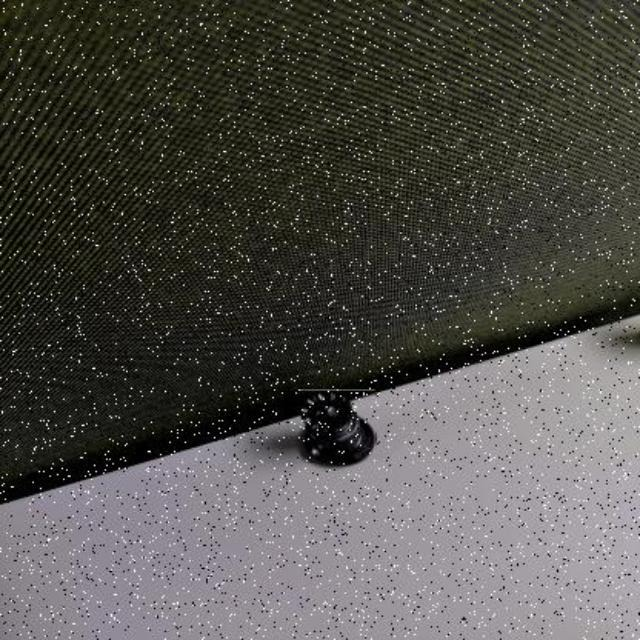black-queen: (301, 389, 377, 464)
